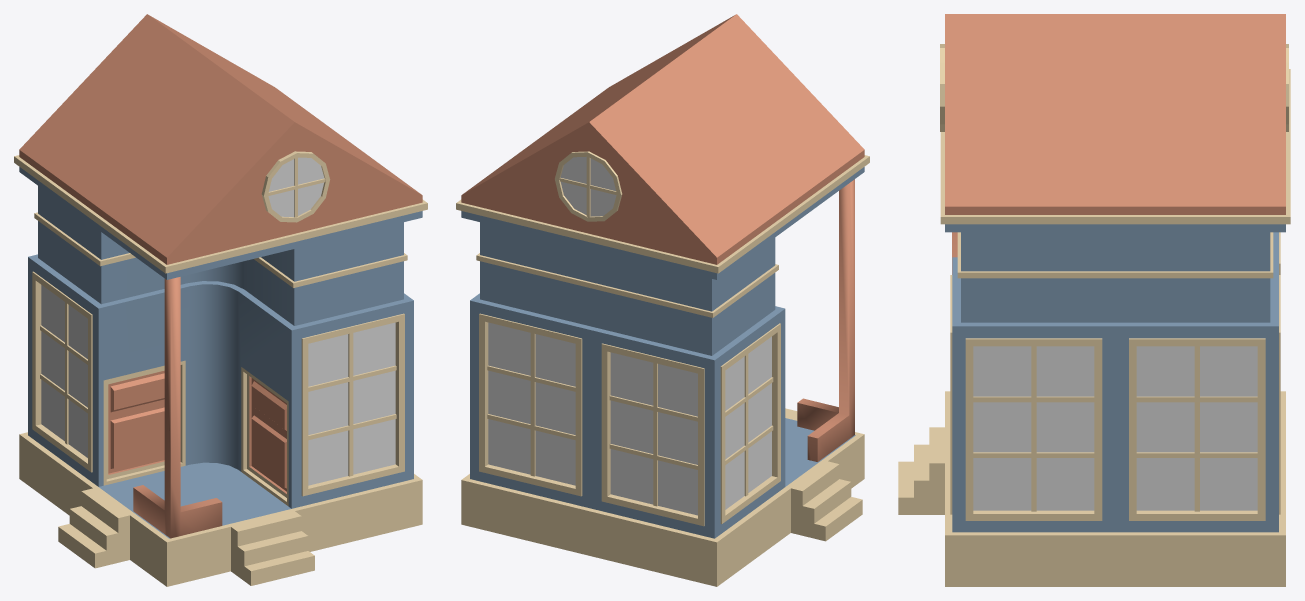
Rendered from suburban-house-E.fbx.
3 views of the same model, side by side, from view 1: azimuth 30°, elevation 25°; view 2: azimuth 150°, elevation 25°; view 3: azimuth 270°, elevation 25° (orthographic). The views are drawn at different scales.
Parts seen in each view (by area): view 1: suburban-house-E; view 2: suburban-house-E; view 3: suburban-house-E.
Part boxes in pixels (x1,y1,x2,y2): suburban-house-E: [14, 14, 427, 586]; suburban-house-E: [456, 14, 869, 586]; suburban-house-E: [898, 14, 1290, 586].
Size of the model in its own units: 7.17 by 10.1 by 7.17.
